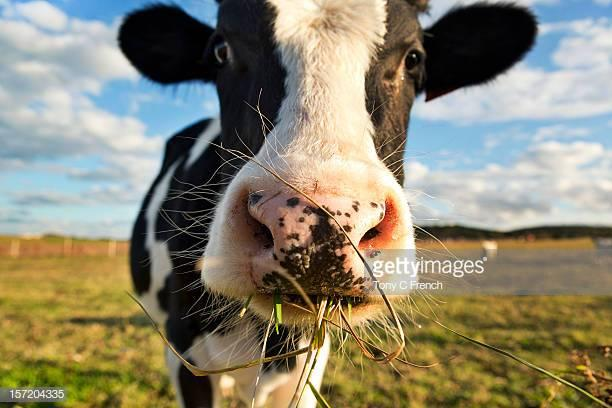muzzles: (198, 164, 428, 337)
